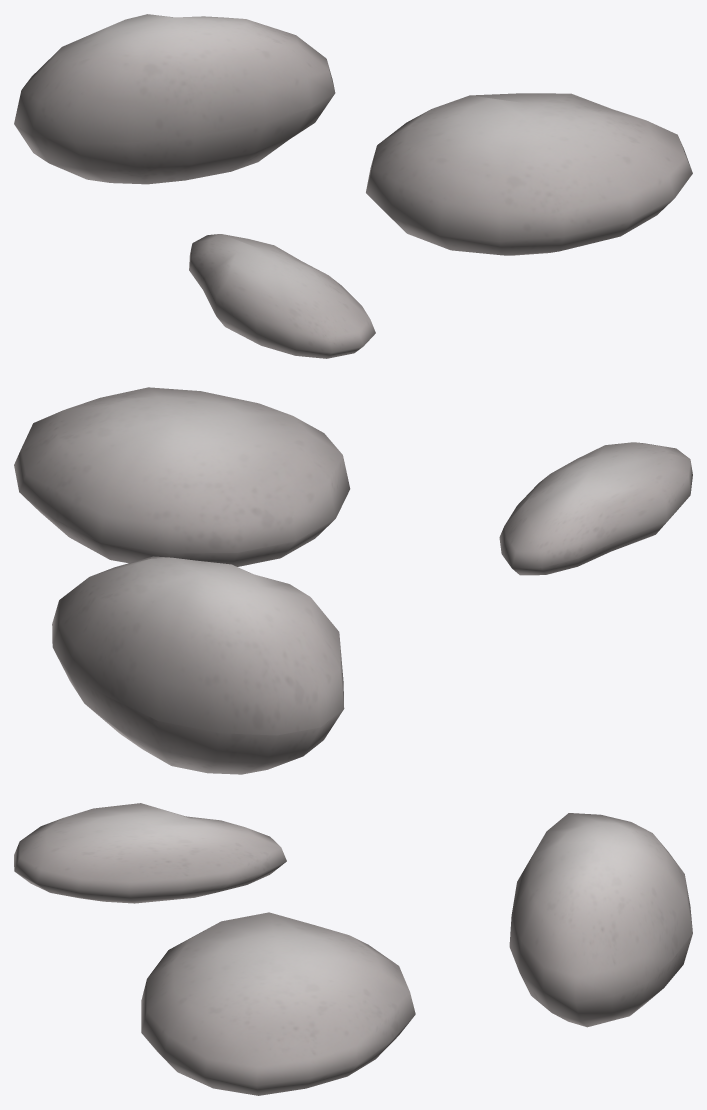
File: Stone 1.fbx
3 views of the same model, one above another, from view 1: azimuth 30°, elevation 25°; view 2: azimuth 150°, elevation 25°; view 3: azimuth 270°, elevation 25° (orthographic). The views are drawn at different scales.
Visible parts, largest first — view 1: Stone2, Stone1, Stone3; view 2: Stone2, Stone1, Stone3; view 3: Stone1, Stone2, Stone3.
Part boxes in pixels (x1=…): Stone2: x1=14, y1=14, x2=335, y2=184; Stone1: x1=366, y1=93, x2=692, y2=255; Stone3: x1=189, y1=234, x2=375, y2=358; Stone2: x1=52, y1=556, x2=344, y2=774; Stone1: x1=14, y1=387, x2=350, y2=566; Stone3: x1=499, y1=442, x2=692, y2=575; Stone1: x1=141, y1=912, x2=415, y2=1095; Stone2: x1=509, y1=813, x2=692, y2=1027; Stone3: x1=14, y1=803, x2=286, y2=903.
Size of the model in its own units: 3.65 by 1.02 by 4.17.
1 material, 1 textured.
